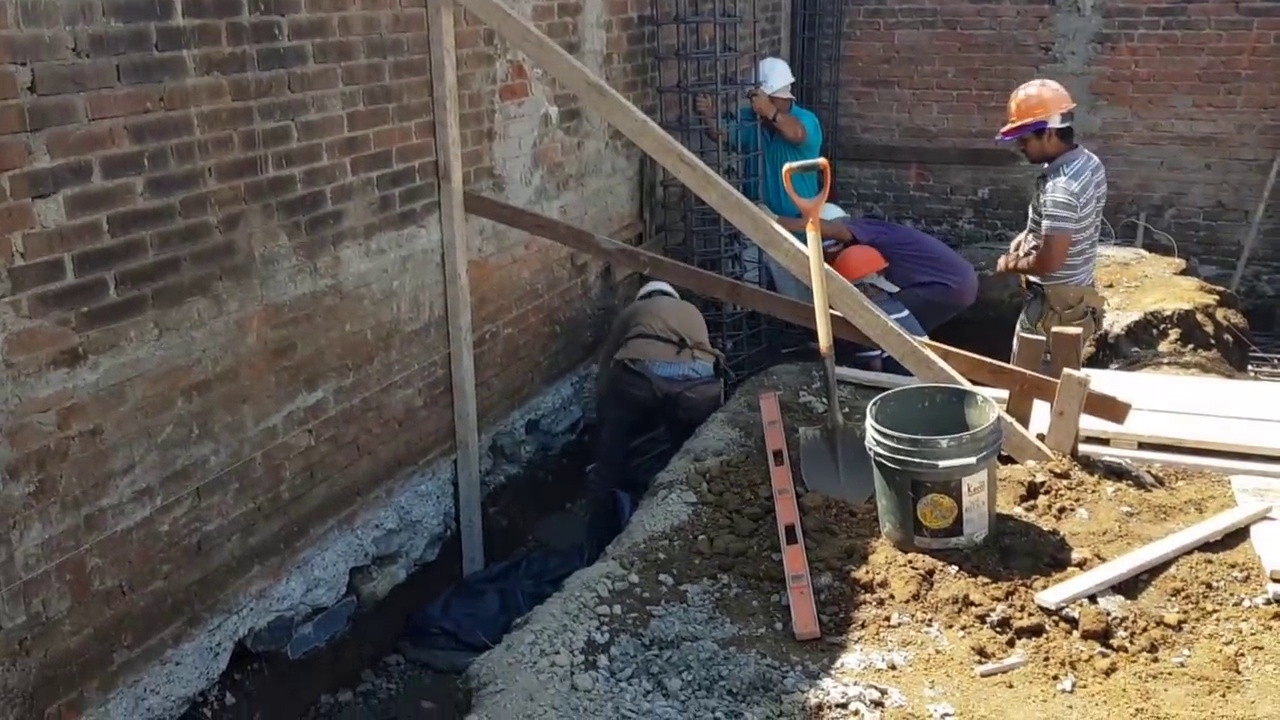helmet: (1001, 80, 1076, 133), (833, 244, 890, 283), (755, 57, 795, 95), (815, 203, 851, 222)
helmet-on: (1002, 80, 1083, 167), (834, 243, 892, 304), (753, 56, 795, 115), (635, 280, 681, 302)
person: (994, 80, 1108, 364), (693, 58, 825, 302), (595, 279, 727, 473), (820, 201, 978, 332), (835, 242, 933, 373)
